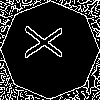X: (25, 25, 72, 60)
